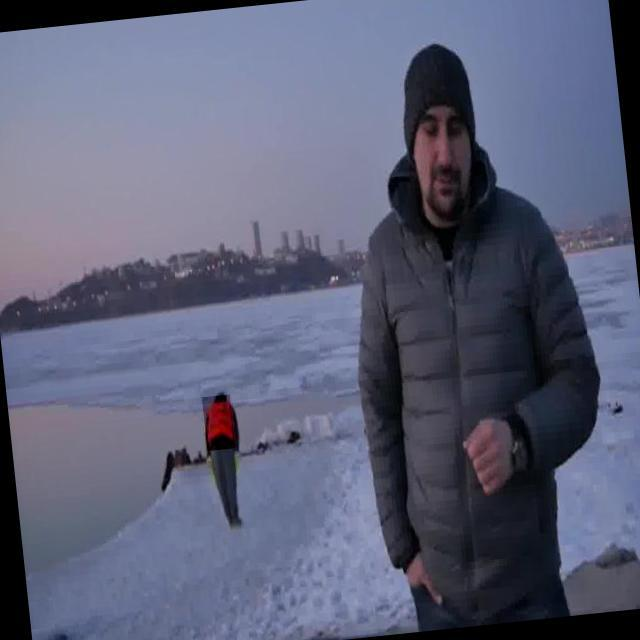Person: (345, 0, 619, 640), (184, 379, 265, 544)
Safety Vest: (202, 394, 235, 451)
bare-arms: (458, 405, 534, 505), (392, 554, 450, 604)
no-helmet: (399, 38, 495, 141)
no-vest: (356, 144, 598, 622)
